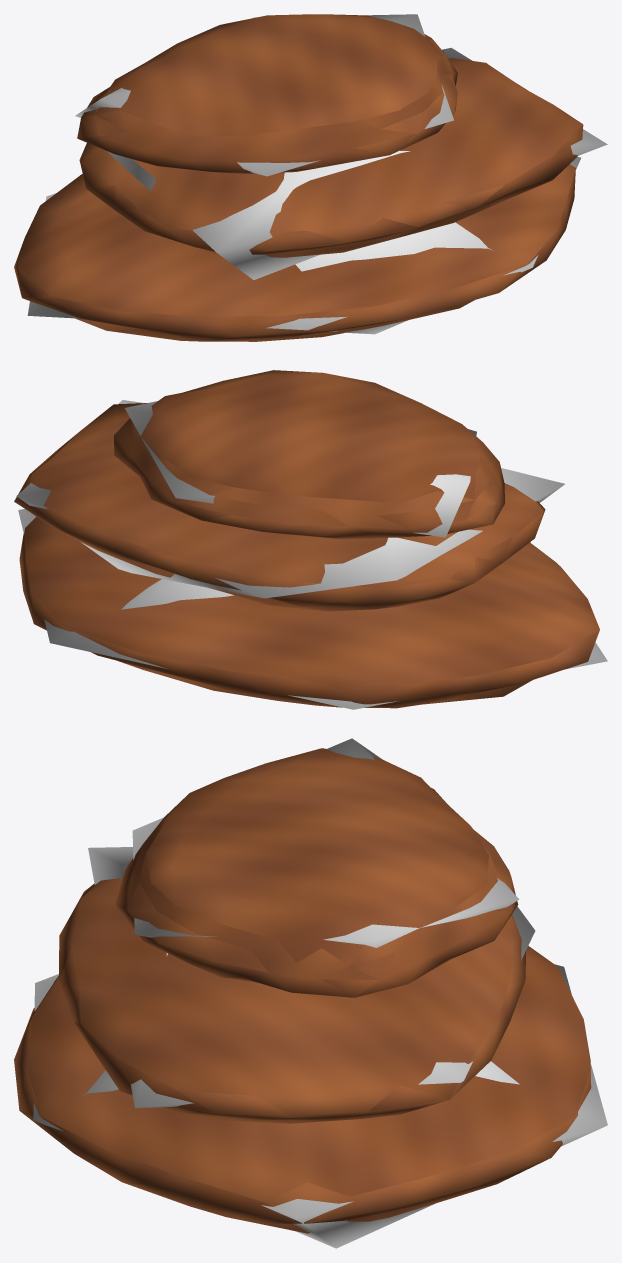
File: LayeredMesa.glb
3 renders of one model, top to bottom at view 1: azimuth 30°, elevation 25°; view 2: azimuth 150°, elevation 25°; view 3: azimuth 270°, elevation 25°, orthographic. The views are drawn at different scales.
Visible parts, largest first — view 1: LayeredMesa_LOD0, LayeredMesa_COL; view 2: LayeredMesa_LOD0, LayeredMesa_COL; view 3: LayeredMesa_LOD0, LayeredMesa_COL.
Boxes of the visible parts, bbox=[...] form: LayeredMesa_LOD0: bbox=[14, 14, 583, 341]; LayeredMesa_COL: bbox=[27, 14, 607, 334]; LayeredMesa_LOD0: bbox=[14, 370, 599, 708]; LayeredMesa_COL: bbox=[16, 400, 607, 709]; LayeredMesa_LOD0: bbox=[14, 748, 591, 1233]; LayeredMesa_COL: bbox=[33, 738, 607, 1248].
Size of what is drawn, in the model's own units: 20.01 by 7.7 by 14.44.
1 material, 1 textured.
